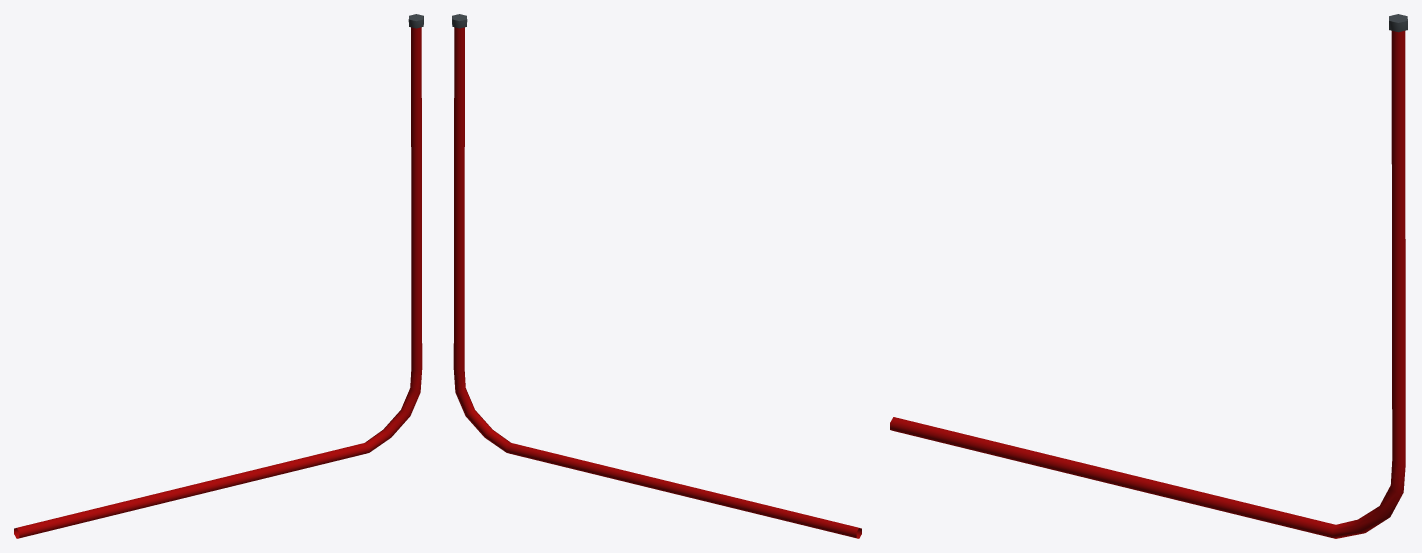
File: Cable_Corner.fbx
The picture shows the model from 3 angles, left to right: view 1: azimuth 30°, elevation 25°; view 2: azimuth 150°, elevation 25°; view 3: azimuth 330°, elevation 25°; orthographic projection. The views are drawn at different scales.
Visible parts, largest first — view 1: Cable_Corner; view 2: Cable_Corner; view 3: Cable_Corner.
Boxes of the visible parts, x1,y1,x2,y2 form: Cable_Corner: (14,14,423,538); Cable_Corner: (452,14,861,538); Cable_Corner: (890,14,1407,538).
Bounding box in the file's own units: 75.87 × 75.51 × 2.37.
